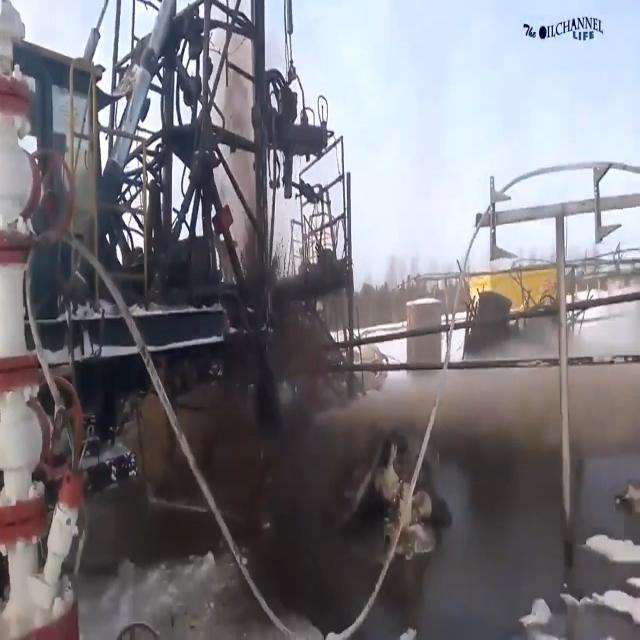spillage: (275, 431, 640, 640), (313, 354, 640, 462), (223, 0, 265, 274)
